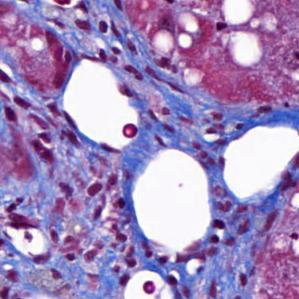inflammation: (25, 128, 61, 169), (109, 229, 144, 270), (80, 175, 111, 203), (199, 119, 227, 144), (94, 12, 114, 39)
